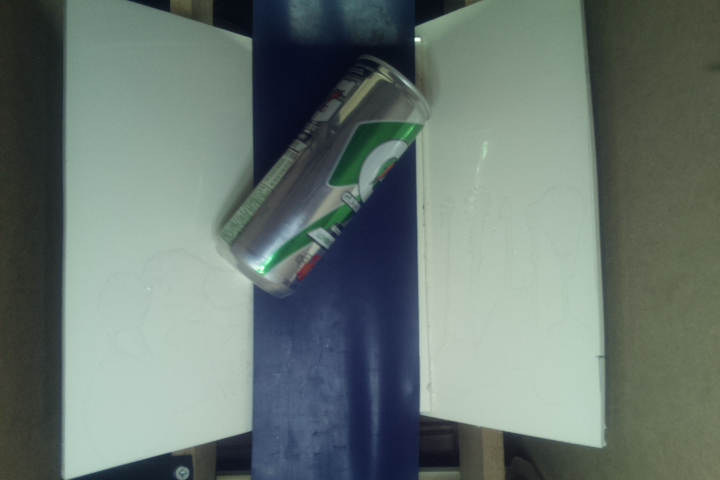can: (218, 52, 432, 301)
